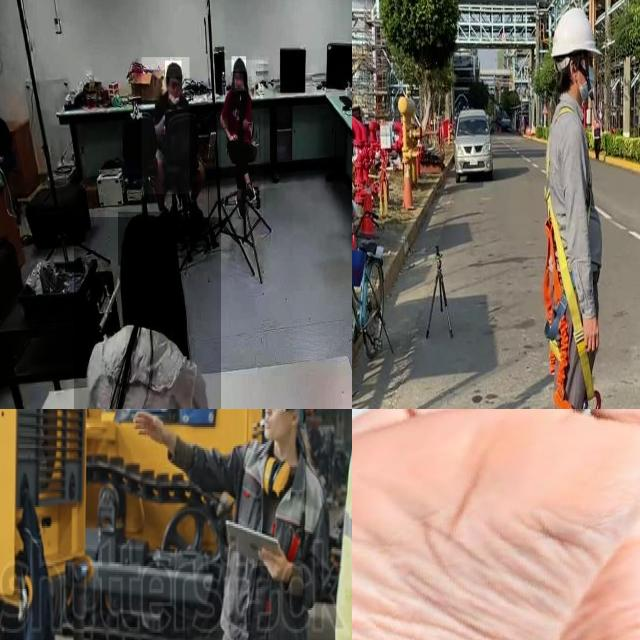Barefoots: (352, 409, 640, 640)
Ear-protection: (261, 447, 293, 504)
Harness: (544, 196, 596, 409)
face_nomask: (232, 73, 244, 89)
glasses: (260, 409, 299, 420)
hand_noglove: (227, 132, 238, 142)
head_nohelmet: (118, 212, 178, 267), (165, 61, 182, 78), (232, 56, 246, 72)
person: (74, 217, 221, 409), (236, 409, 329, 640), (221, 60, 264, 218), (142, 57, 190, 195)
